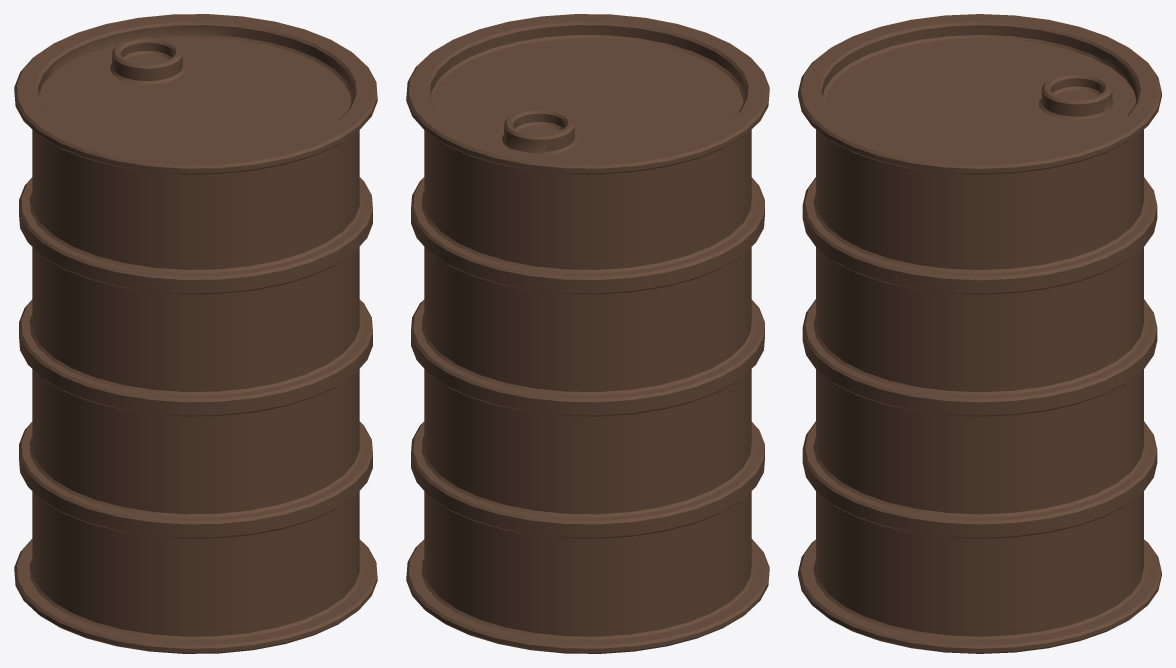
The model's file is fullMetalBarrel.fbx.
3 views of the same model, side by side, from view 1: azimuth 30°, elevation 25°; view 2: azimuth 150°, elevation 25°; view 3: azimuth 270°, elevation 25° (orthographic).
Parts seen in each view (by area): view 1: Cylinder; view 2: Cylinder; view 3: Cylinder.
Part boxes in pixels (left/top/right/bottom): Cylinder: left=14, top=14, right=377, bottom=653; Cylinder: left=406, top=14, right=769, bottom=653; Cylinder: left=798, top=14, right=1161, bottom=653.
Bounding box in the file's own units: 290 × 433 × 290.
